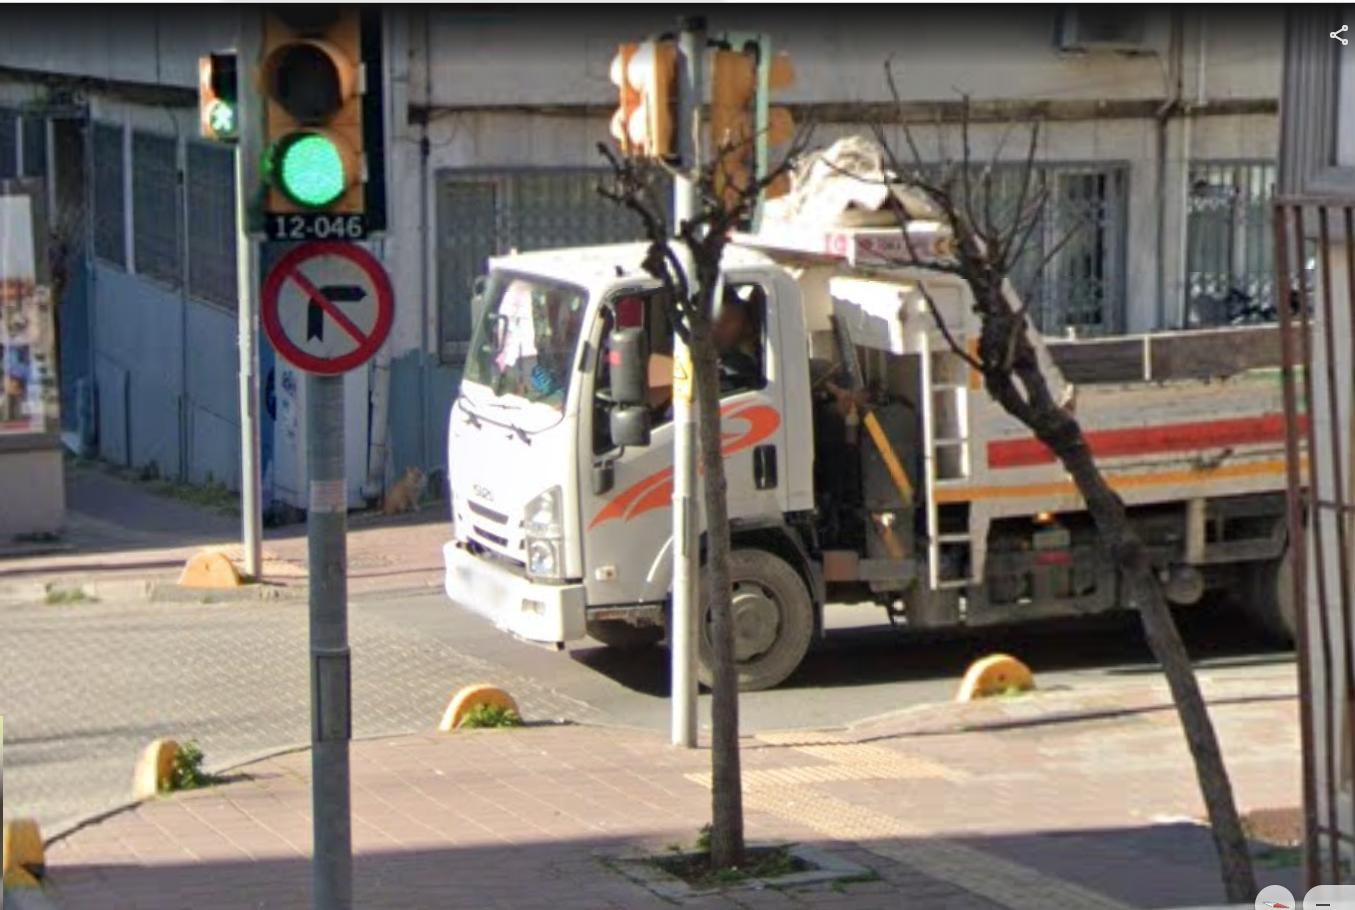greenlight: (254, 9, 370, 210)
rightturnsareforbidden: (267, 245, 392, 357)
